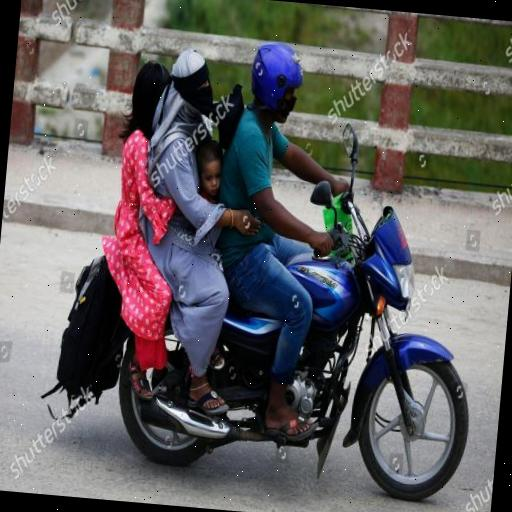helmet: (238, 42, 351, 140)
triple riding: (75, 28, 508, 508)
